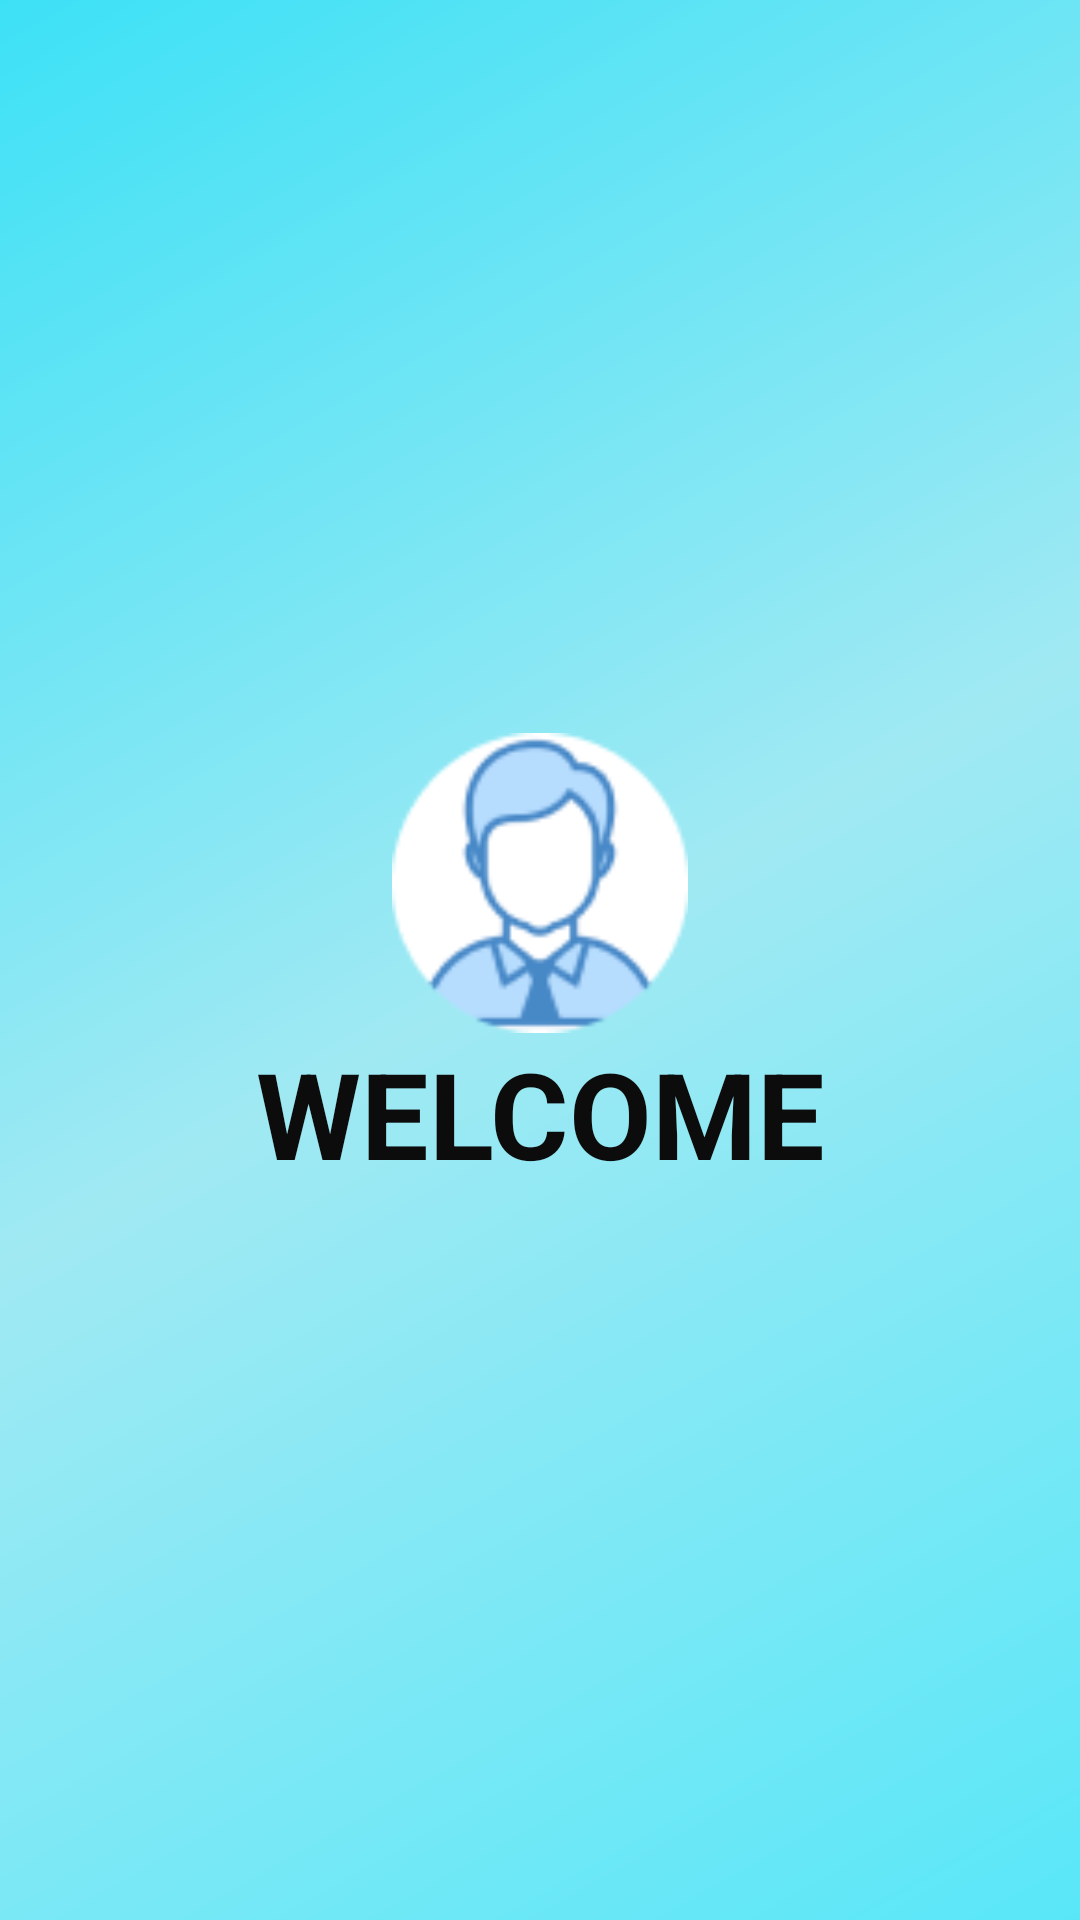

Icon bounding boxes for this 1080*1920 phone screenshot, format (x1, y1, x2, y2):
ava: (392, 733, 688, 1033)
